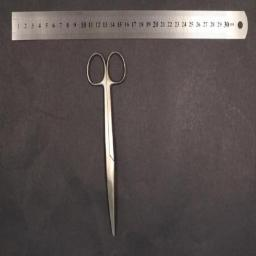Curved Mayo Scissors: (86, 50, 126, 236)
